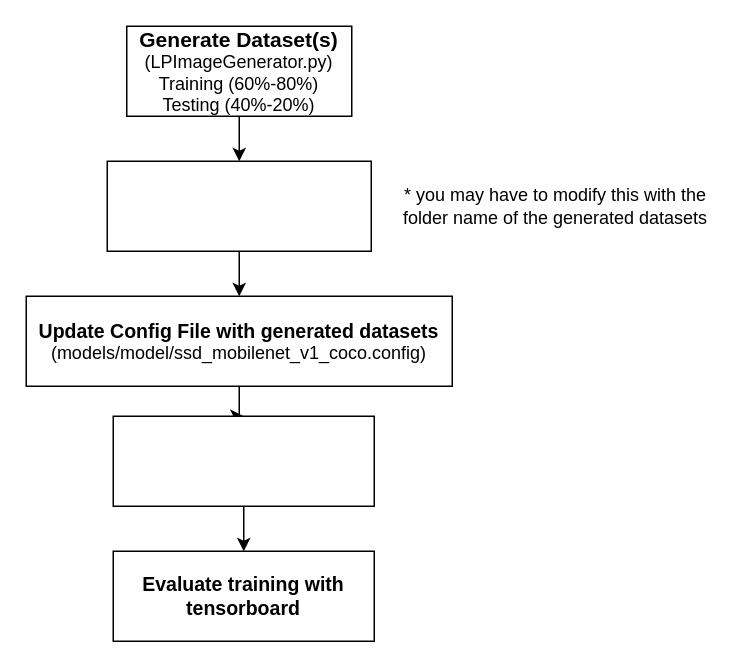
The diagram is 740 pixels wide and 668 high, and some of its shapes have lost their labels. The shapes that lost their labels are listed below. From the top down, each one's box as (x1, y1, x2, y2) in pixels, then its label:
(106, 160, 371, 251): Convert Datasets to TFRecords (ObjectDetection.ipyn)
(112, 415, 374, 506): Run model_main.py or train.py
